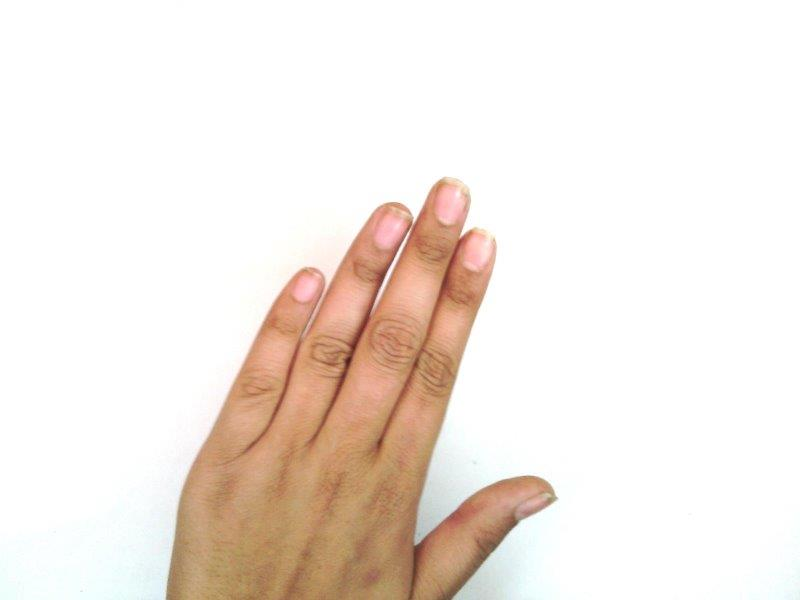hand: (169, 176, 561, 596)
